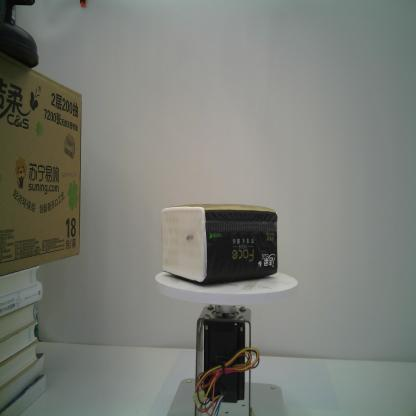Tissue: (160, 203, 279, 284)
